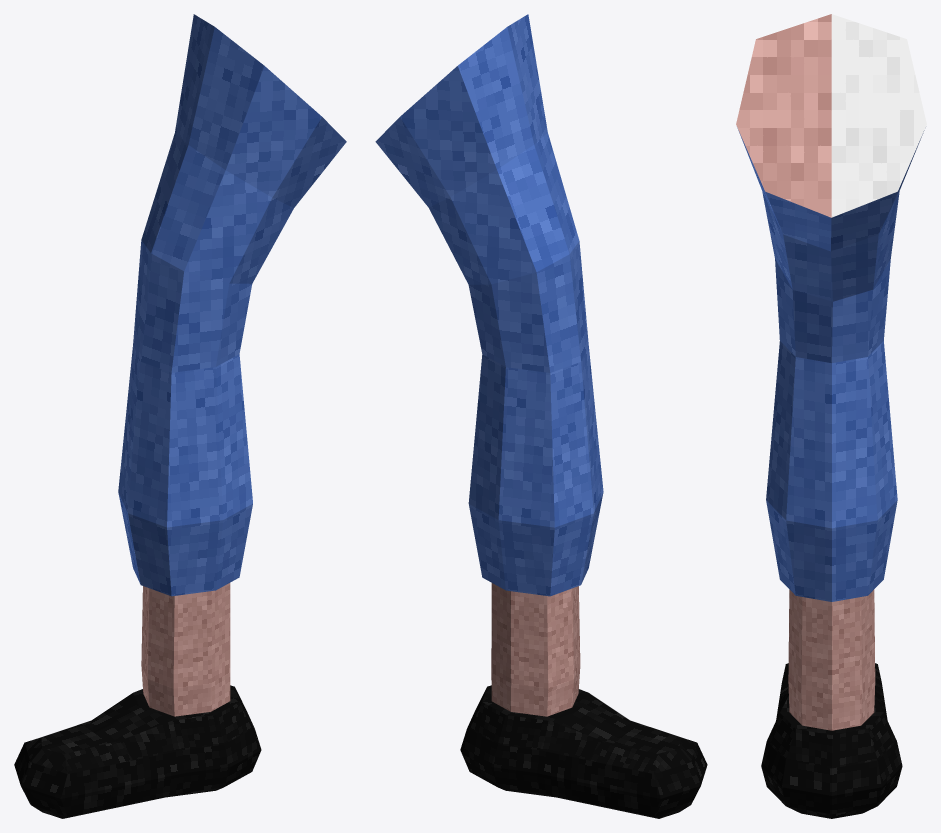
The model's file is Leg.fbx.
3 renders of one model, left to right at view 1: azimuth 30°, elevation 25°; view 2: azimuth 150°, elevation 25°; view 3: azimuth 270°, elevation 25°, orthographic. The views are drawn at different scales.
Parts seen in each view (by area): view 1: Leg; view 2: Leg; view 3: Leg.
Boxes of the visible parts, <box> form: Leg: <box>14,14,346,818</box>; Leg: <box>375,14,707,818</box>; Leg: <box>736,14,926,818</box>.
Size of the model in its own units: 587 by 1348 by 293.
Materials: 1 (1 with a texture image).
